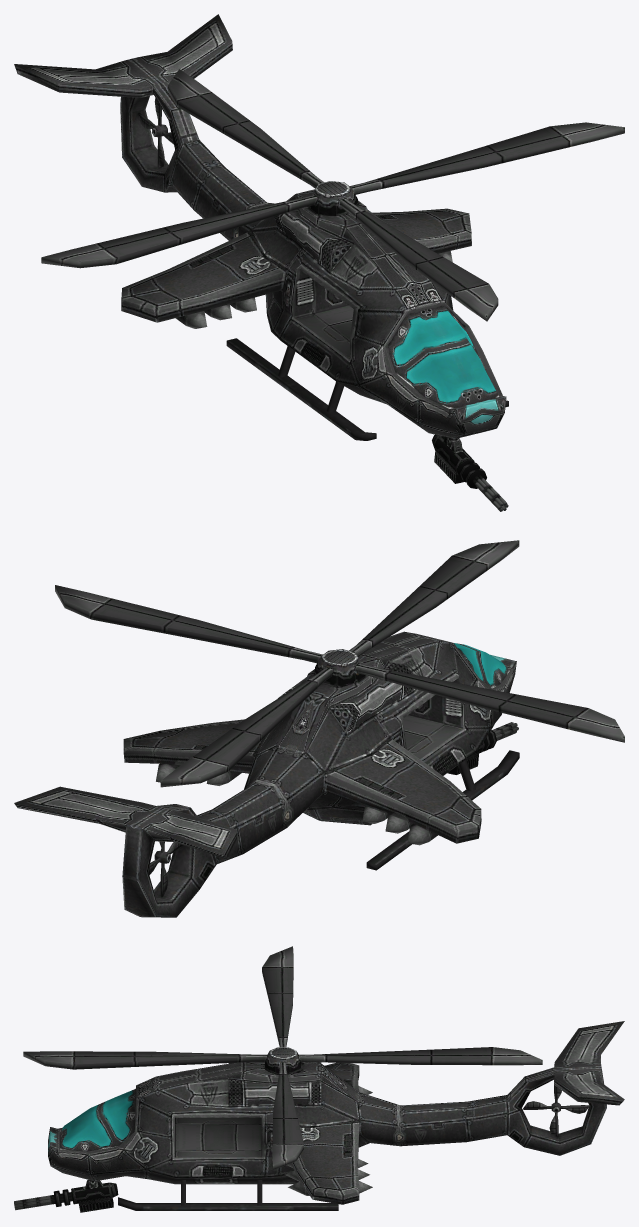
File: Osprey.glb
The picture shows the model from 3 angles, top to bottom: view 1: azimuth 30°, elevation 25°; view 2: azimuth 150°, elevation 25°; view 3: azimuth 270°, elevation 25°; orthographic projection. The views are drawn at different scales.
Parts seen in each view (by area): view 1: Mesh; view 2: Mesh; view 3: Mesh.
Boxes of the visible parts, x1=… form: Mesh: x1=14, y1=14, x2=624, y2=511; Mesh: x1=14, y1=540, x2=624, y2=917; Mesh: x1=14, y1=946, x2=624, y2=1212.
Bounding box in the file's own units: 0.6683 × 0.2236 × 0.7862.
Materials: 1 (1 with a texture image).
